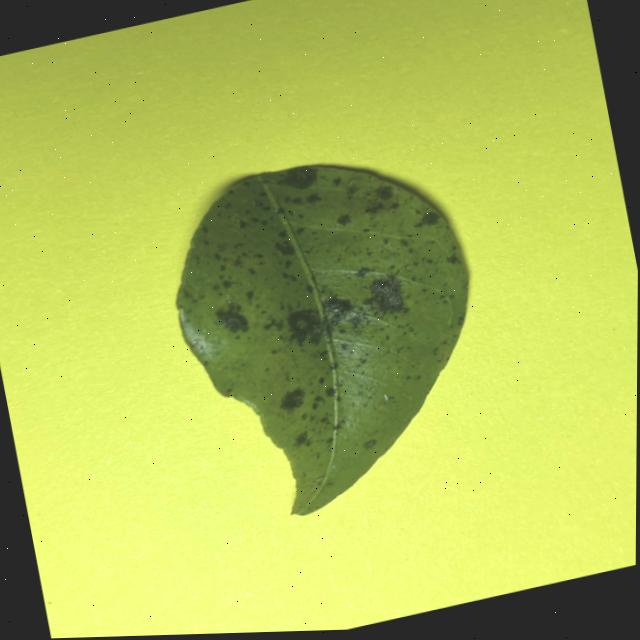sooty_mold: (177, 167, 468, 515)
